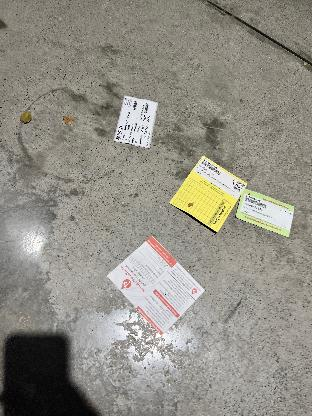Paper: (100, 230, 208, 333), (165, 154, 247, 235), (238, 184, 300, 242), (109, 89, 158, 147)
